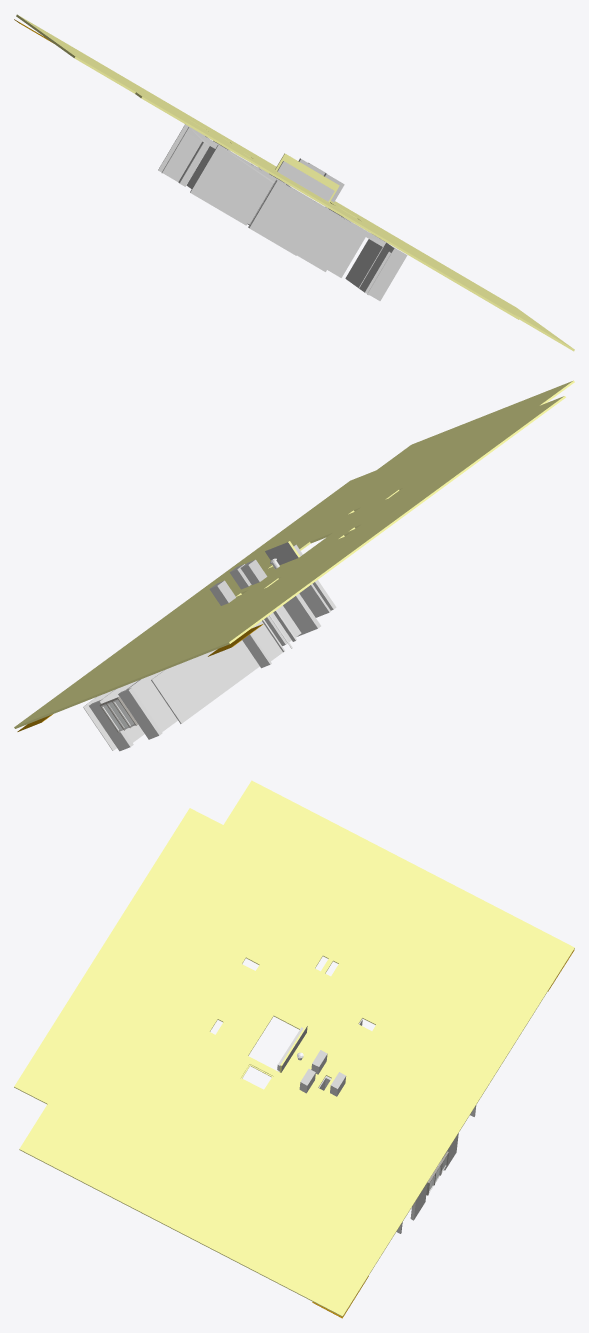
The picture shows the model from 3 angles, top to bottom: view 1: azimuth 30°, elevation 25°; view 2: azimuth 150°, elevation 25°; view 3: azimuth 270°, elevation 25°; orthographic projection. The views are drawn at different scales.
Parts seen in each view (by area): view 1: mesh; view 2: mesh; view 3: mesh.
Part boxes in pixels (x1,y1,x2,y2): mesh: (14,14,574,351); mesh: (14,380,574,751); mesh: (14,780,574,1318).
Bounding box in the file's own units: 28.09 × 22.49 × 33.52.
